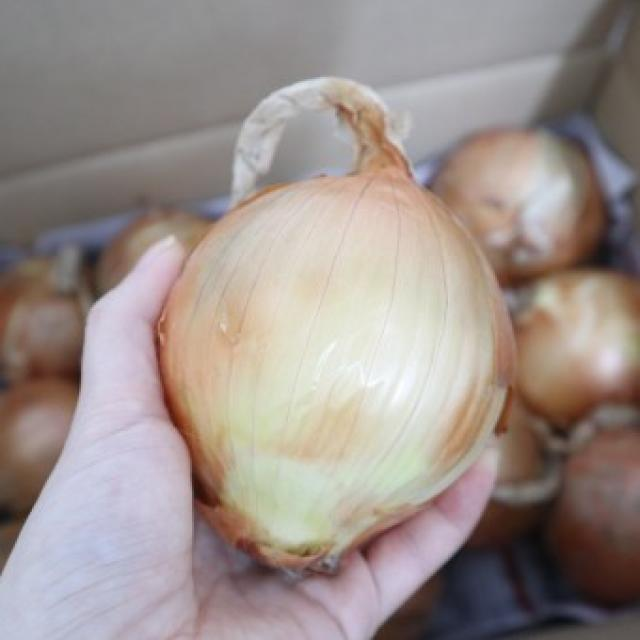onion: (160, 140, 526, 582)
